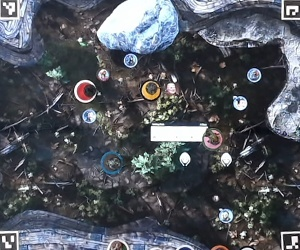brown_turquoise: (99, 153, 122, 176)
pink_green: (202, 128, 225, 151)
red: (72, 79, 95, 102)
yellow_night_blue: (139, 76, 162, 99)
